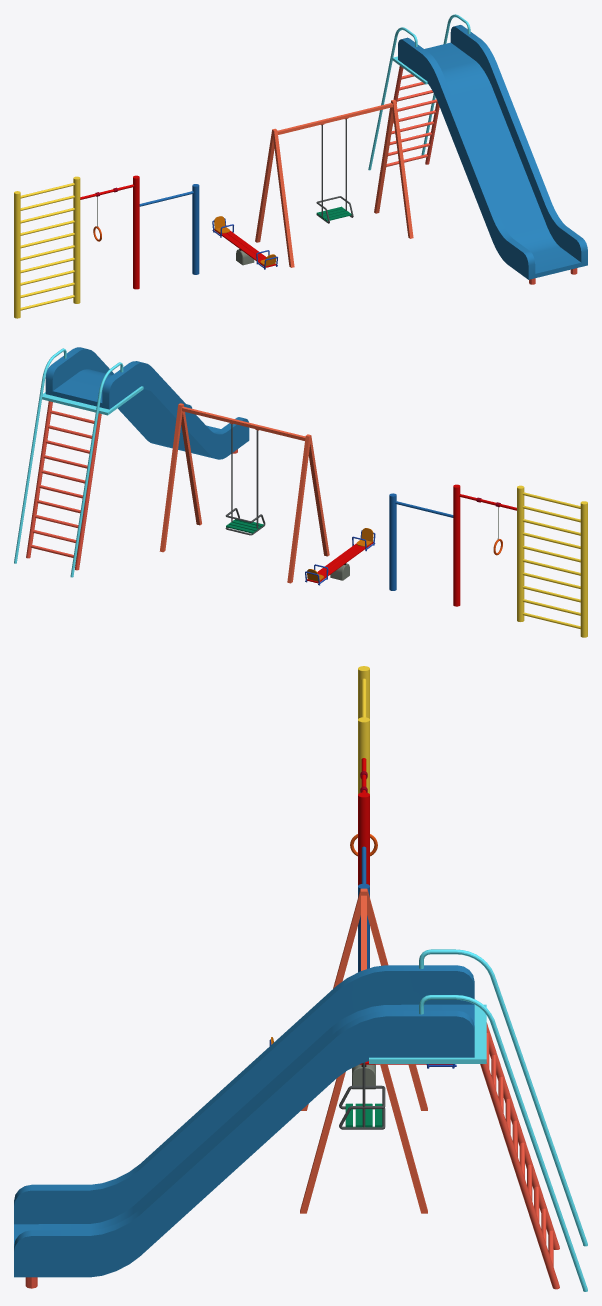
The model's file is Baby_carriage.fbx.
3 views of the same model, one above another, from view 1: azimuth 30°, elevation 25°; view 2: azimuth 150°, elevation 25°; view 3: azimuth 270°, elevation 25° (orthographic). The views are drawn at different scales.
Visible parts, largest first — view 1: Slide, Horizontal_bar, Swing_2, Swing_1, Swing_2_chair; view 2: Slide, Horizontal_bar, Swing_2, Swing_1, Swing_2_chair; view 3: Slide, Swing_2, Horizontal_bar, Swing_2_chair.
Boxes of the visible parts, x1=… form: Slide: x1=368, y1=14, x2=587, y2=284; Horizontal_bar: x1=14, y1=175, x2=199, y2=318; Swing_2: x1=255, y1=99, x2=413, y2=267; Swing_1: x1=212, y1=216, x2=277, y2=269; Swing_2_chair: x1=316, y1=119, x2=353, y2=223; Slide: x1=14, y1=347, x2=249, y2=577; Horizontal_bar: x1=389, y1=484, x2=587, y2=637; Swing_2: x1=159, y1=403, x2=329, y2=583; Swing_1: x1=305, y1=528, x2=375, y2=585; Swing_2_chair: x1=225, y1=424, x2=265, y2=535; Slide: x1=14, y1=949, x2=587, y2=1291; Swing_2: x1=300, y1=888, x2=427, y2=1213; Horizontal_bar: x1=358, y1=666, x2=369, y2=972; Swing_2_chair: x1=339, y1=1062, x2=385, y2=1129.
Size of the model in its own units: 801 by 269 by 474.
